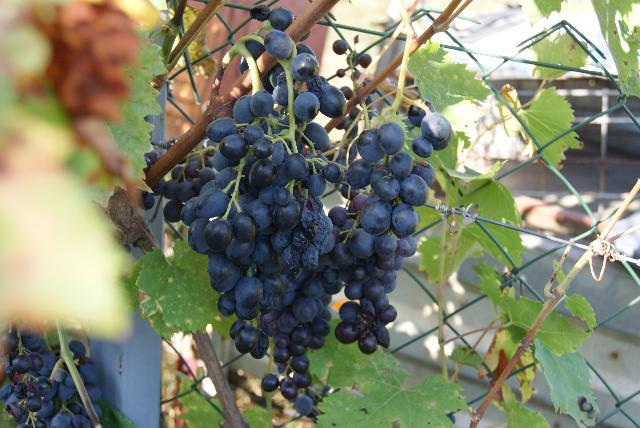grapes: (164, 75, 300, 358), (265, 29, 346, 399), (336, 110, 452, 354)
